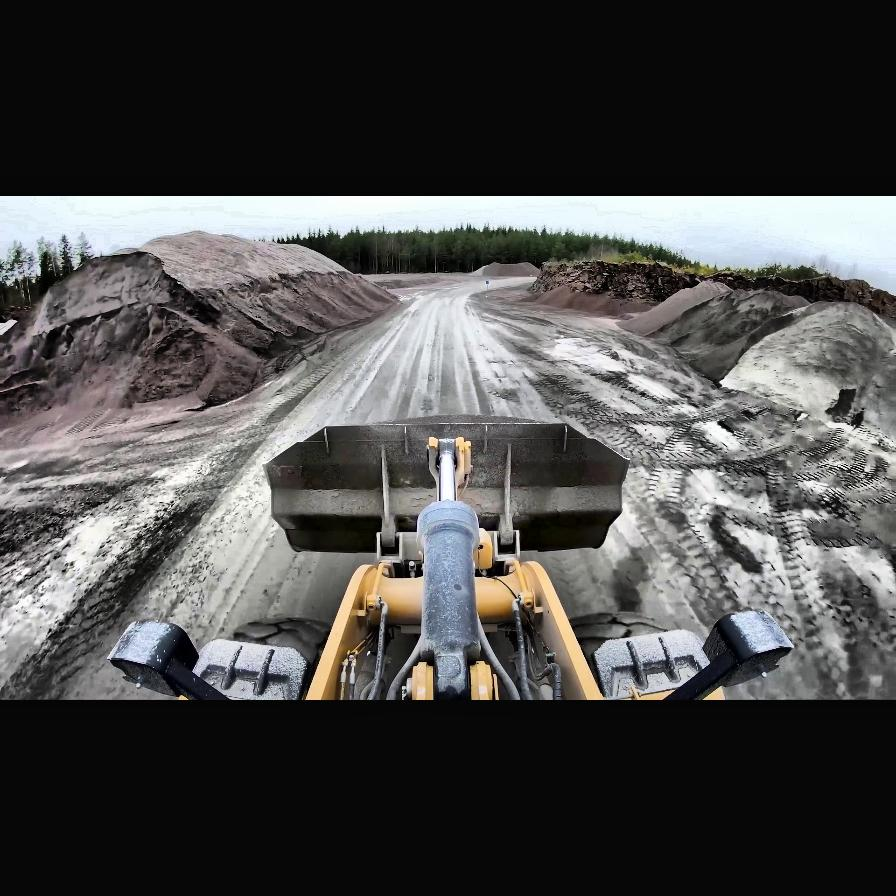anchor: (427, 435, 471, 499)
pile of gravel: (1, 230, 402, 432)
